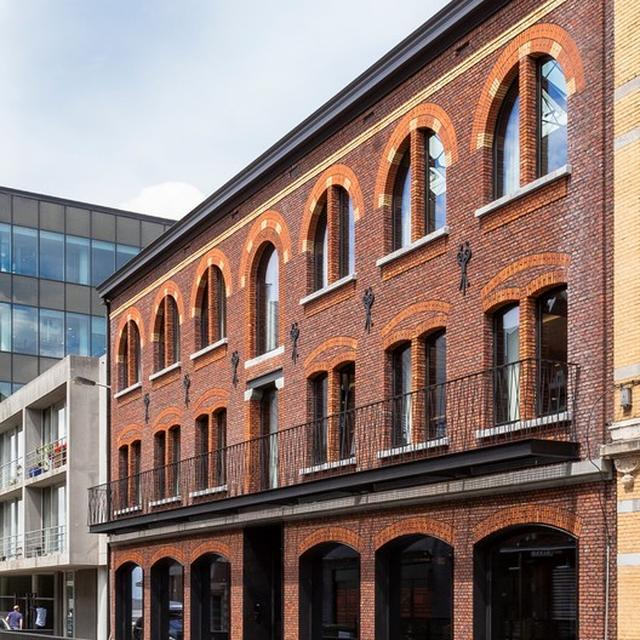building: (105, 0, 620, 640), (0, 177, 185, 395), (0, 349, 108, 631)
